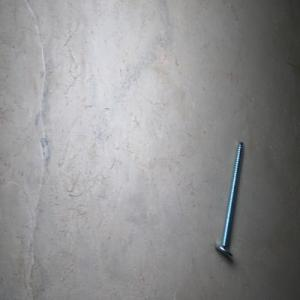Bolt: (213, 140, 244, 258)
